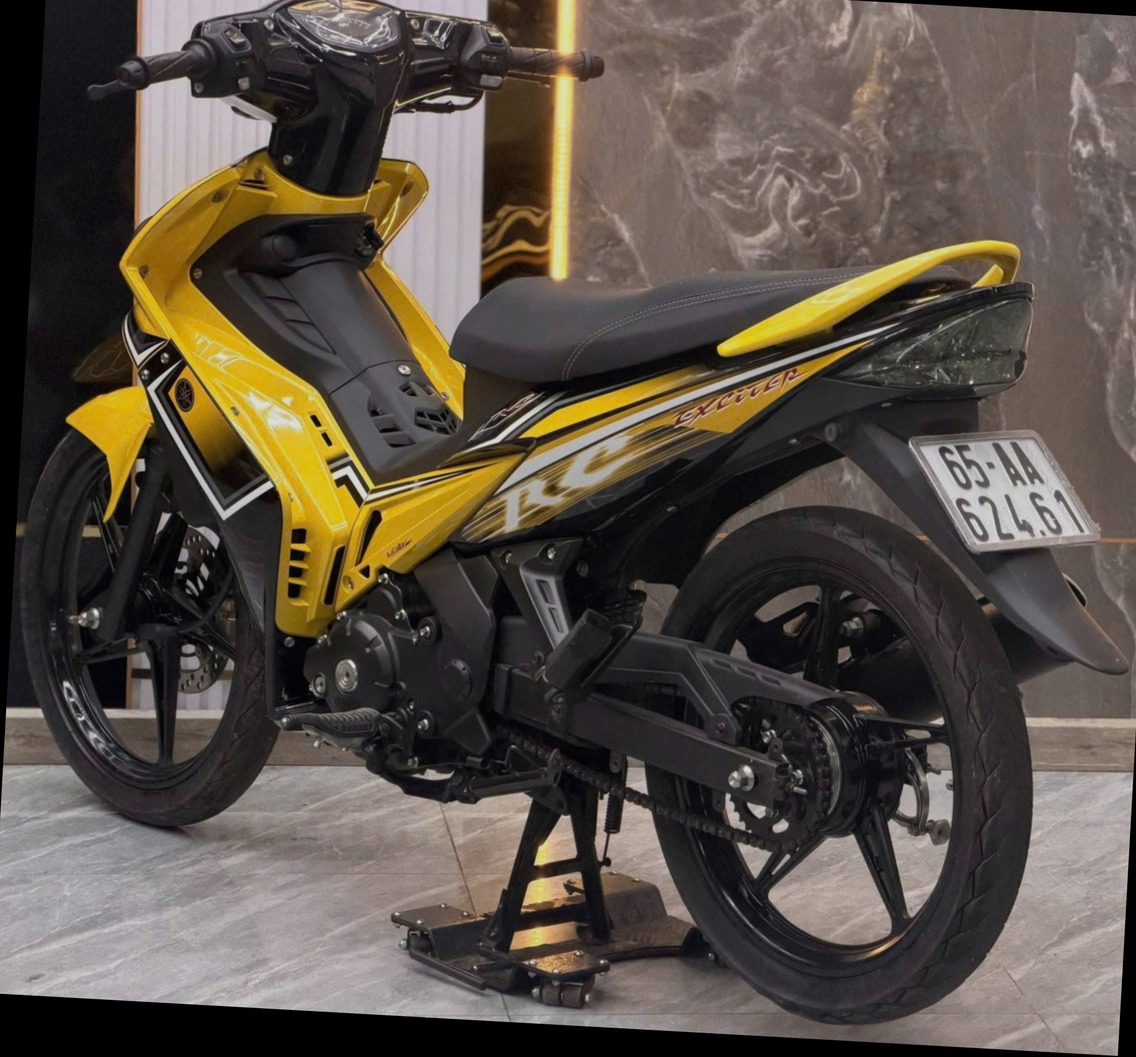Bien-so: (912, 423, 1104, 559)
